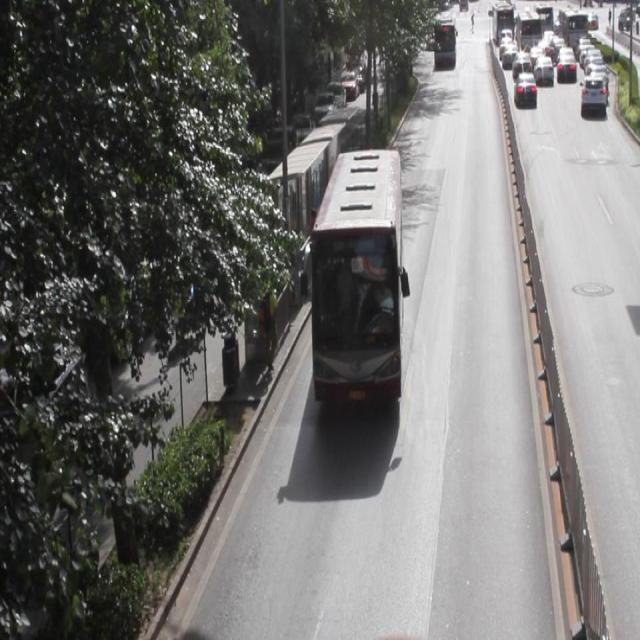van: (311, 147, 401, 404)
